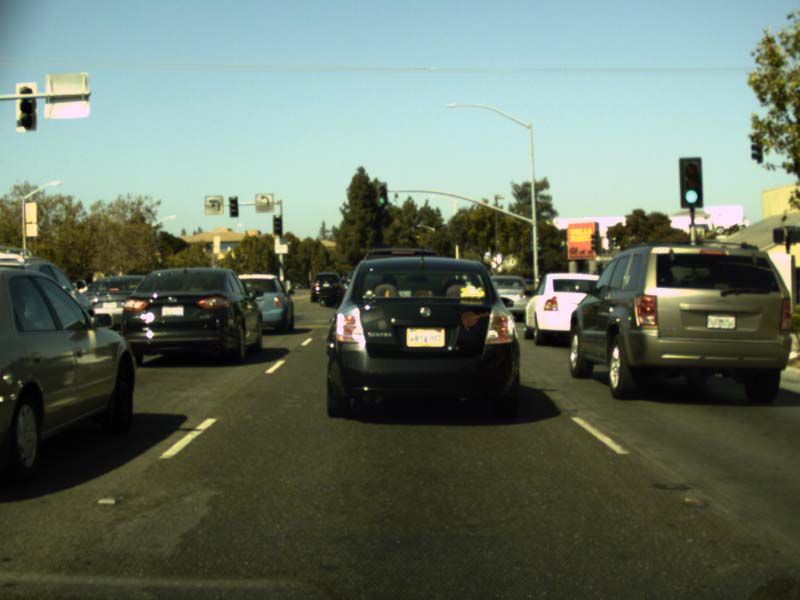Green: (683, 160, 697, 205), (536, 233, 544, 252), (378, 185, 384, 204)
